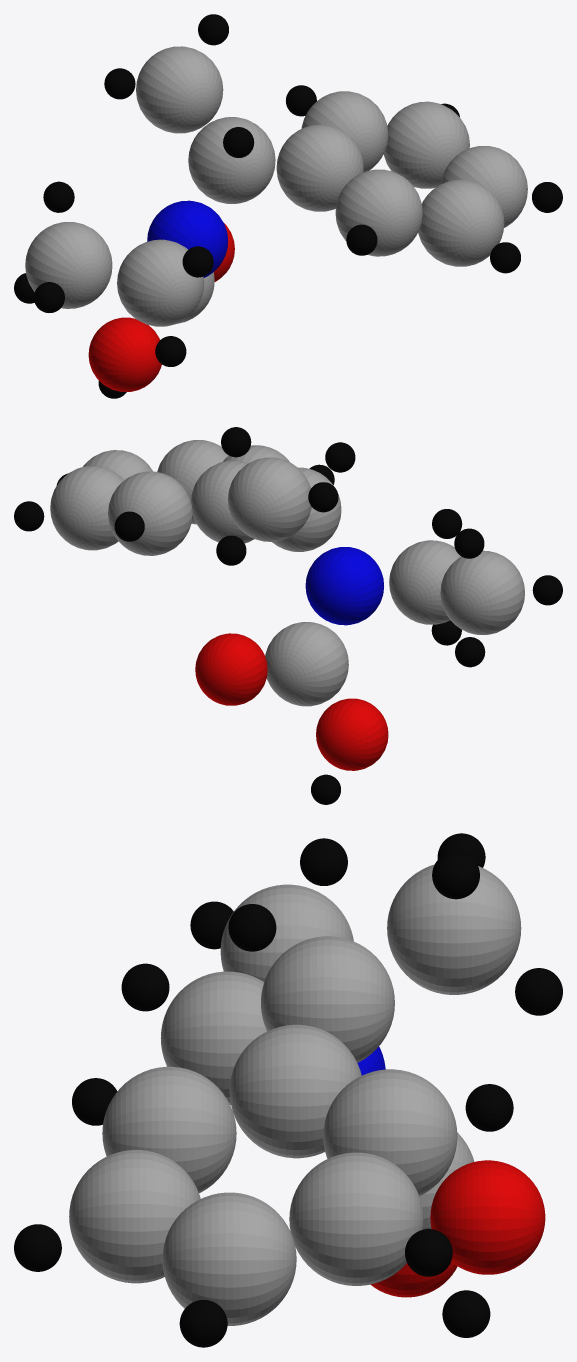
File: Celecoxib.glb
The picture shows the model from 3 angles, top to bottom: view 1: azimuth 30°, elevation 25°; view 2: azimuth 150°, elevation 25°; view 3: azimuth 270°, elevation 25°; orthographic projection. The views are drawn at different scales.
Visible parts, largest first — view 1: world; view 2: world; view 3: world.
Part boxes in pixels (x1,y1,x2,y2): world: [14, 14, 562, 398]; world: [14, 427, 562, 804]; world: [14, 833, 562, 1347].
Bounding box in the file's own units: 9.66 × 6.38 × 5.73.
